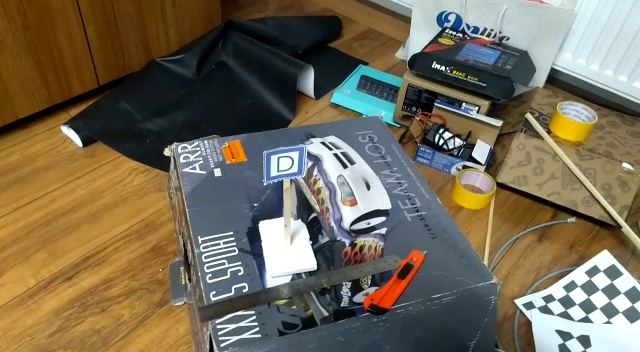durak: (261, 143, 307, 183)
